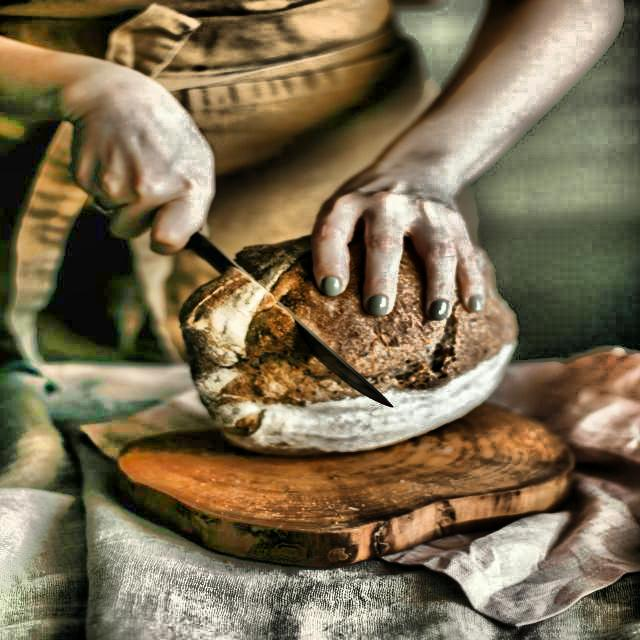knife: (140, 208, 404, 412)
